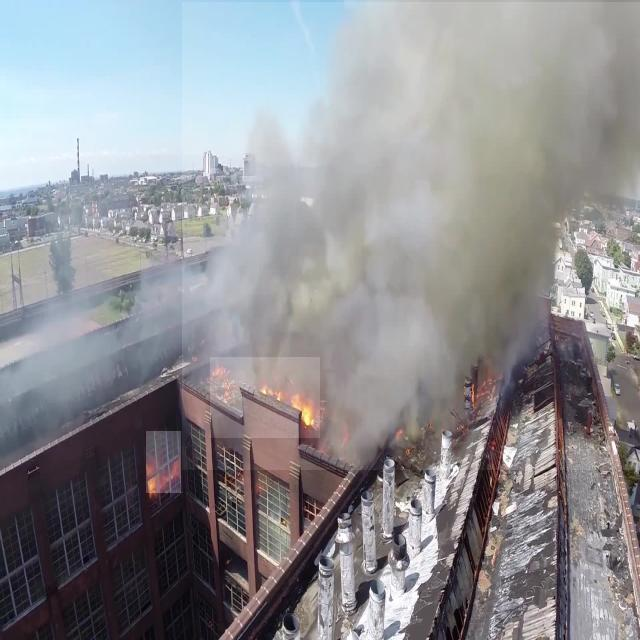Fire: (210, 357, 320, 438), (146, 432, 181, 494)
Smoke: (182, 2, 640, 470)
